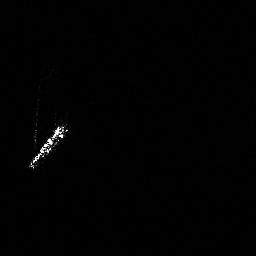ship: (26, 112, 72, 171)
